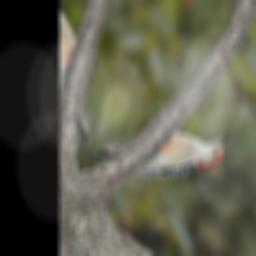Woodpecker: (94, 52, 236, 234)
